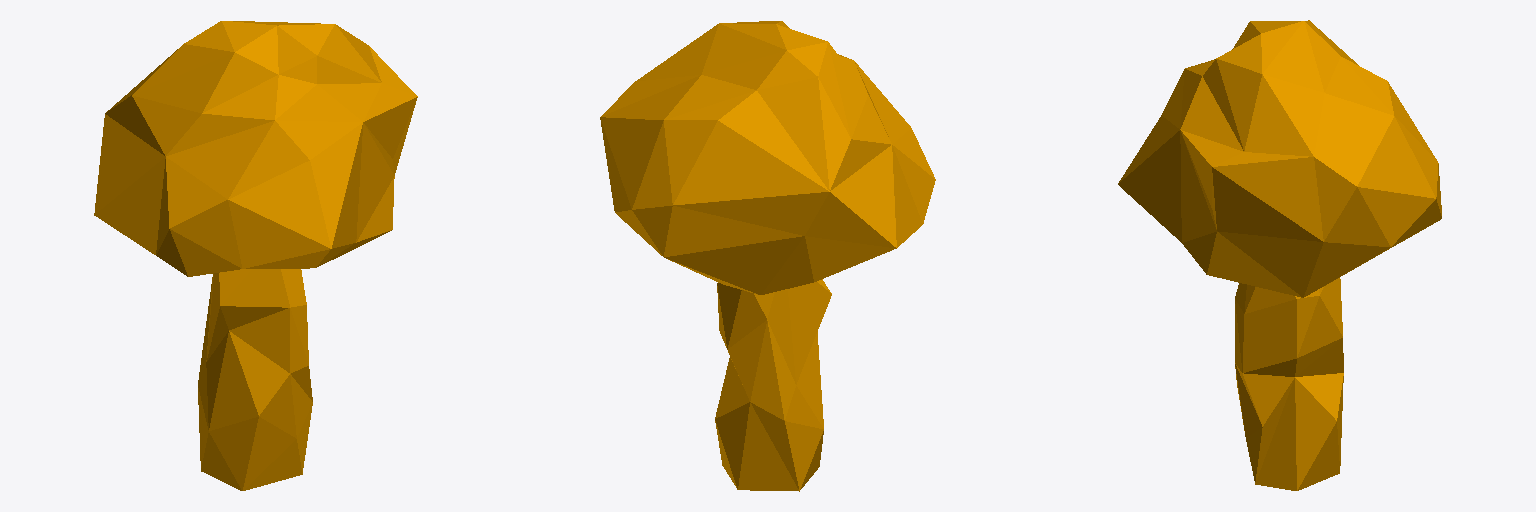
URDF robot description (mesh_object):
<robot name="mesh_object">
            <link name="base">
                <visual>
                    <geometry>
                        <mesh filename="broccoli_0_v000.obj" scale="1 1 1" />
                    </geometry>
                </visual>
                <collision>
                    <geometry>
                        <mesh filename="broccoli_0_v000.obj" scale="1 1 1" />
                    </geometry>
                </collision>
                <inertial>
                    <origin xyz="0.000000 0.000000 0.049685" rpy="0 0 0" />
                    <mass value="0.500000" />
                    <inertia ixx="0.01" iyy="0.01" izz="0.01" ixy="0" ixz="0" iyz="0" />
                </inertial>
            </link>
            </robot>

--- Facts derived from the render (not from the file) ---
3 views of the same robot in one strip: view 1: azimuth 30°, elevation 25°; view 2: azimuth 150°, elevation 25°; view 3: azimuth 270°, elevation 25° (orthographic).
Robot: mesh_object — 1 links, 0 joints (none); root link base; default pose: every joint at zero.
Visible links, largest first — view 1: base; view 2: base; view 3: base.
Link boxes in pixels (box(x1,y1,x2,y2)): base: box(94, 21, 417, 490); base: box(600, 21, 935, 491); base: box(1118, 20, 1441, 490).
Bounding box of the posed robot: 0.0666 × 0.0665 × 0.0994 m (x, y, z).
1 mesh visuals loaded from 1 distinct referenced files (1 OBJ).
